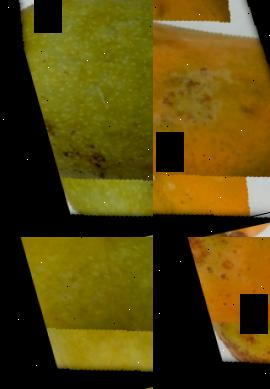PartiallyRipe: (153, 0, 270, 237), (153, 237, 270, 389)
Unripe: (0, 0, 153, 237), (0, 237, 153, 389)
